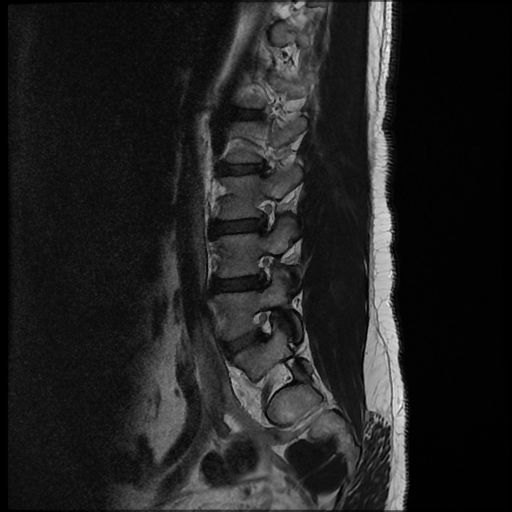RFS0: (243, 299, 287, 346), (247, 191, 285, 242), (245, 244, 281, 294)
